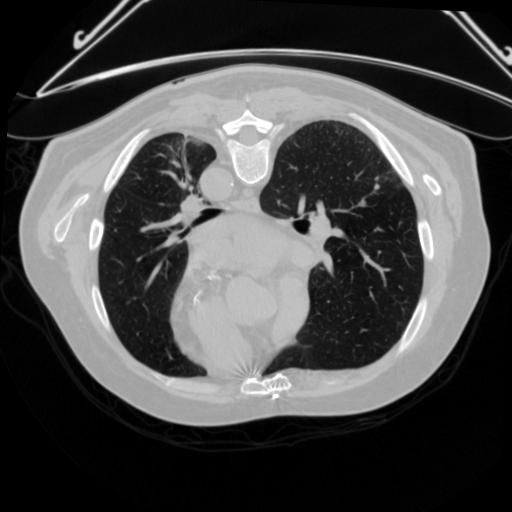nodule: (373, 182, 385, 194)
